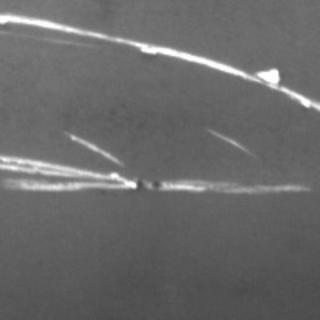scratches: (0, 10, 316, 109), (1, 126, 202, 190), (0, 171, 308, 195)
